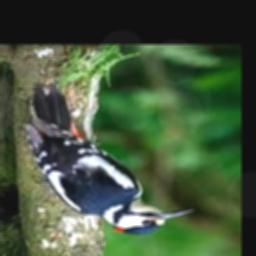Woodpecker: (22, 83, 193, 235)
